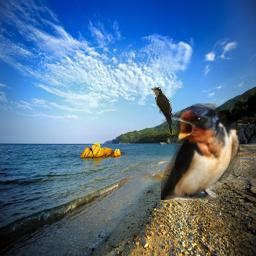Cuckoo: (150, 87, 174, 135)
Swallow: (161, 103, 240, 200)
